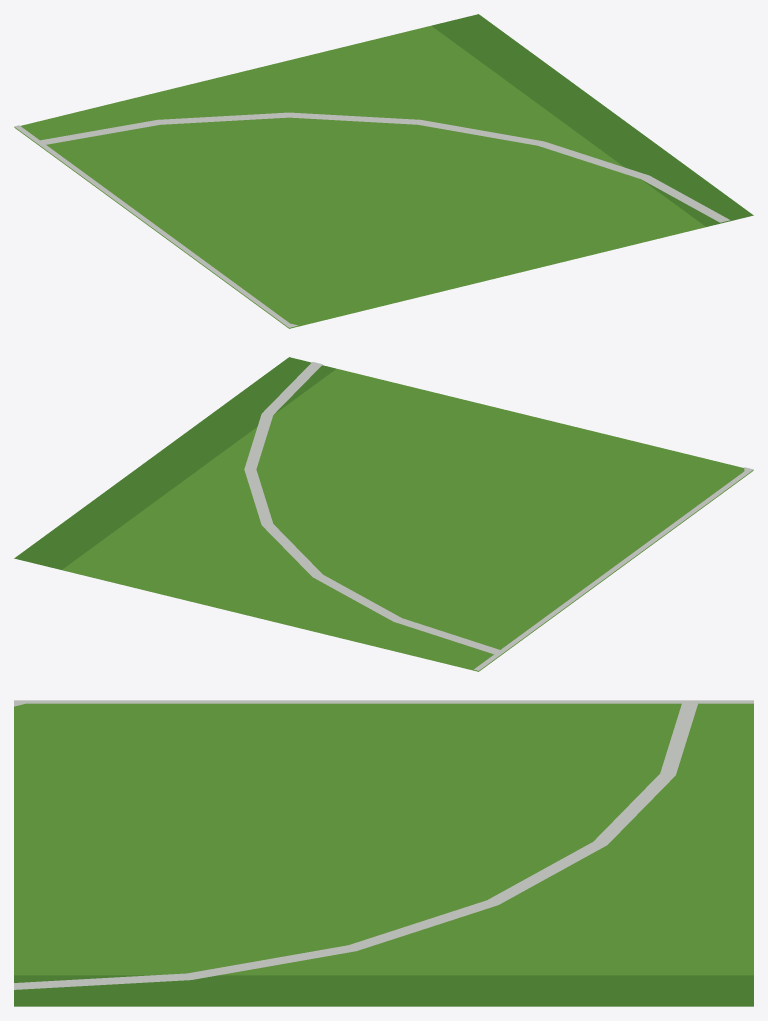
The model's file is pitch_f_6_3.glb.
The picture shows the model from 3 angles, top to bottom: view 1: azimuth 30°, elevation 25°; view 2: azimuth 150°, elevation 25°; view 3: azimuth 270°, elevation 25°; orthographic projection. The views are drawn at different scales.
Visible parts, largest first — view 1: pitch_f_6_3; view 2: pitch_f_6_3; view 3: pitch_f_6_3.
Boxes of the visible parts, x1=… form: pitch_f_6_3: x1=14, y1=14, x2=753, y2=328; pitch_f_6_3: x1=14, y1=357, x2=753, y2=671; pitch_f_6_3: x1=14, y1=700, x2=753, y2=1006.
Size of the model in its own units: 9.75 by 0.02 by 10.
